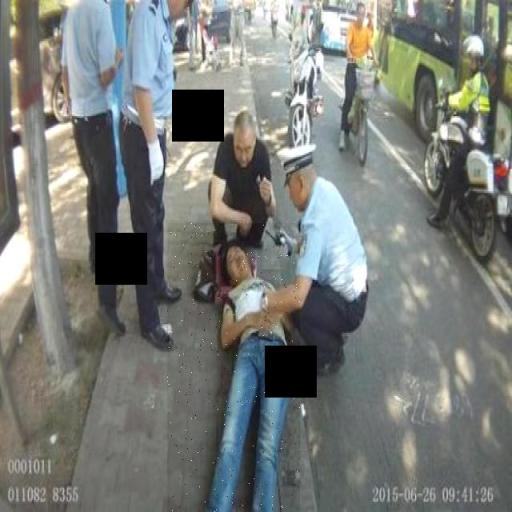Fall: (167, 223, 300, 512)
